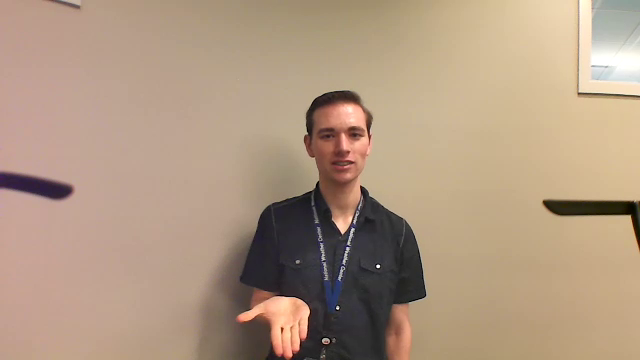land: (229, 291, 322, 360)
